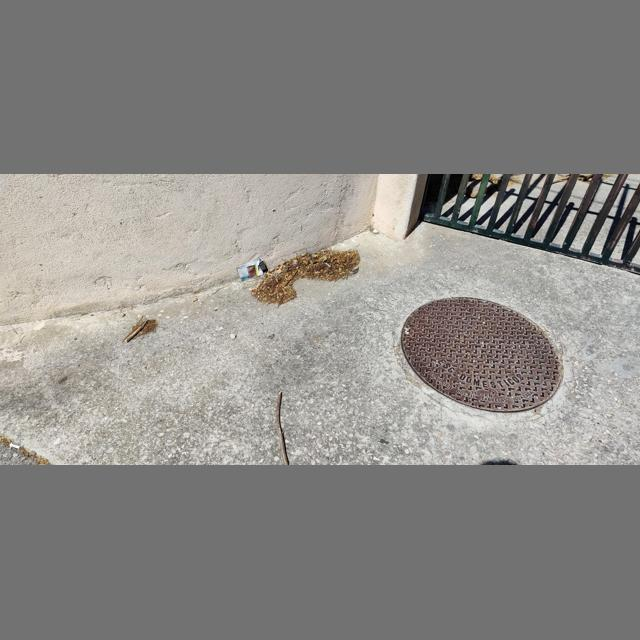litter: (235, 258, 268, 281), (10, 444, 20, 450), (191, 299, 198, 303), (248, 288, 257, 291), (256, 284, 261, 288)
